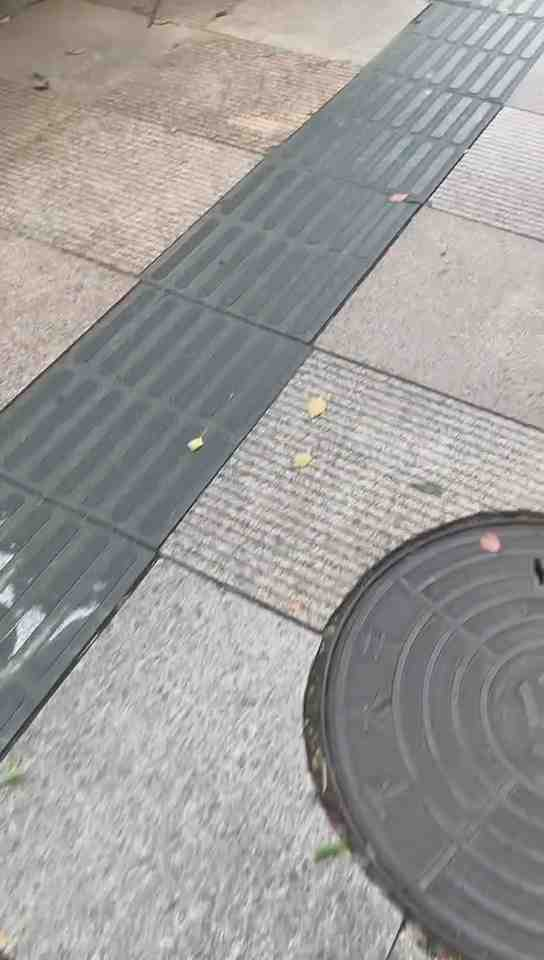leaf: (299, 392, 331, 426), (475, 528, 503, 560), (289, 444, 315, 474), (386, 188, 411, 206)
